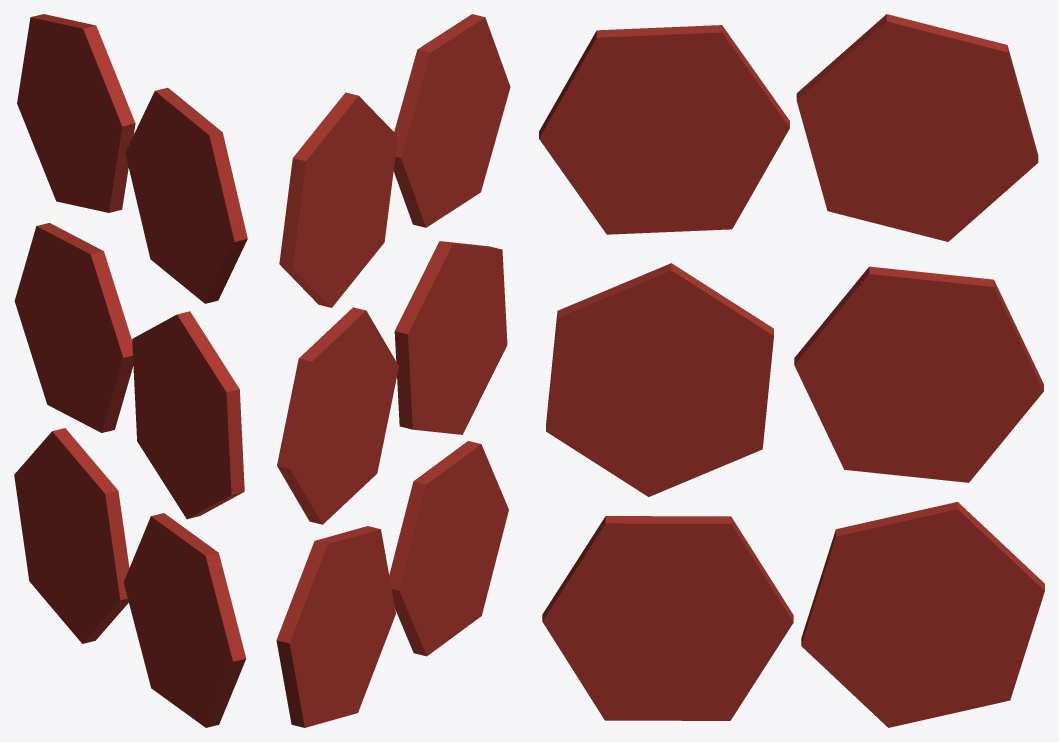
Rendered from Pepperoni.fbx.
3 renders of one model, left to right at view 1: azimuth 30°, elevation 25°; view 2: azimuth 150°, elevation 25°; view 3: azimuth 270°, elevation 25°, orthographic. The views are drawn at different scales.
Visible parts, largest first — view 1: Pepperoni; view 2: Pepperoni; view 3: Pepperoni.
Boxes of the visible parts, x1,y1,x2,y2 form: Pepperoni: (14, 14, 247, 727); Pepperoni: (276, 14, 510, 727); Pepperoni: (539, 14, 1044, 727).
Bounding box in the file's own units: 0.2367 × 10.51 × 6.82.
